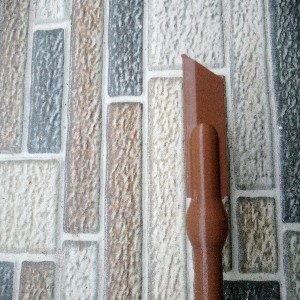cutter: (181, 51, 231, 300)
